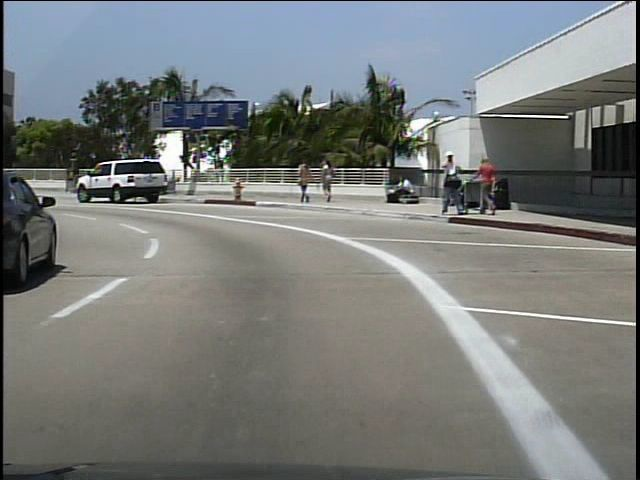person: (441, 149, 466, 221), (477, 154, 499, 216), (297, 156, 314, 206), (318, 159, 335, 208), (390, 175, 413, 205)
